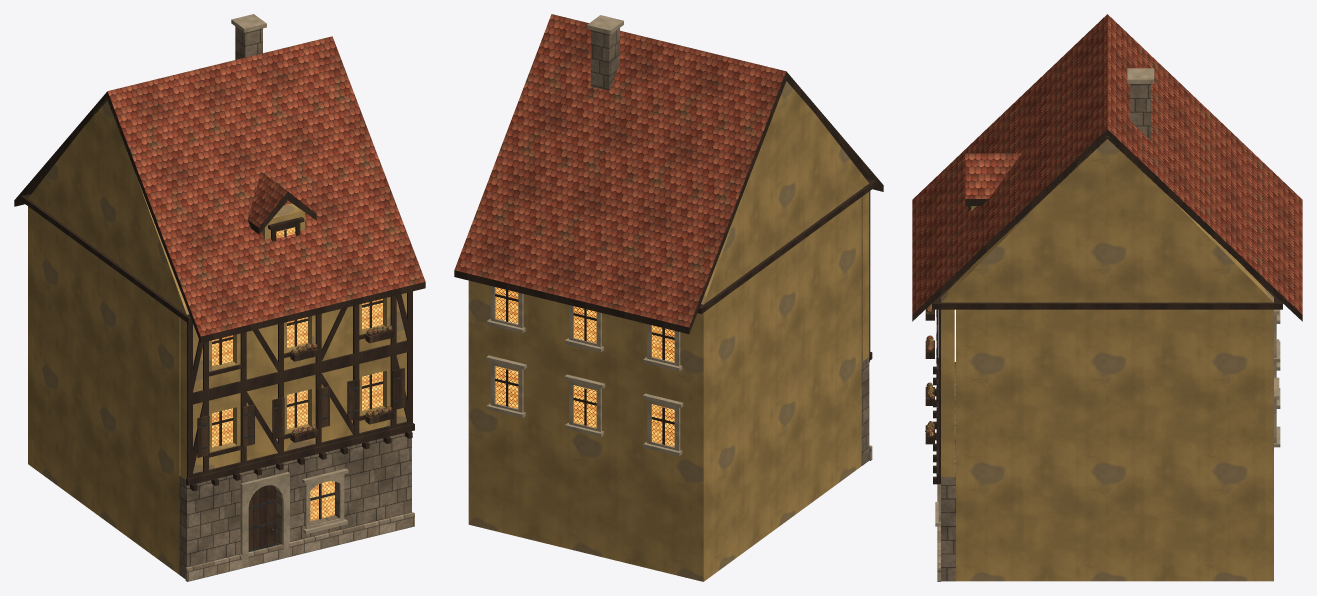
File: house_timber_b.gltf
3 views of the same model, side by side, from view 1: azimuth 30°, elevation 25°; view 2: azimuth 150°, elevation 25°; view 3: azimuth 270°, elevation 25° (orthographic). The views are drawn at different scales.
Visible parts, largest first — view 1: house_timber_b_mesh, INT_door_house_timber_b, INT_window_house_timber_b_0, INT_window_house_timber_b_1, INT_window_house_timber_b_2, INT_window_house_timber_b_0_shutter_R, INT_window_house_timber_b_0_shutter_L, INT_window_house_timber_b_1_shutter_L, INT_window_house_timber_b_1_shutter_R, INT_window_house_timber_b_2_shutter_L, INT_window_house_timber_b_2_shutter_R; view 2: house_timber_b_mesh; view 3: house_timber_b_mesh.
Part boxes in pixels (x1,y1,x2,y2): house_timber_b_mesh: (14, 14, 425, 581); INT_door_house_timber_b: (248, 485, 276, 551); INT_window_house_timber_b_0: (212, 408, 233, 447); INT_window_house_timber_b_1: (287, 390, 308, 428); INT_window_house_timber_b_2: (362, 371, 383, 410); INT_window_house_timber_b_0_shutter_R: (242, 404, 254, 446); INT_window_house_timber_b_0_shutter_L: (197, 415, 209, 457); INT_window_house_timber_b_1_shutter_L: (272, 397, 284, 439); INT_window_house_timber_b_1_shutter_R: (317, 386, 329, 428); INT_window_house_timber_b_2_shutter_L: (347, 379, 359, 421); INT_window_house_timber_b_2_shutter_R: (392, 368, 404, 410); house_timber_b_mesh: (454, 14, 883, 581); house_timber_b_mesh: (912, 14, 1302, 581).
Size of what is drawn, in the model's own units: 9.2 by 17.23 by 12.9.
12 materials, 12 textured.
